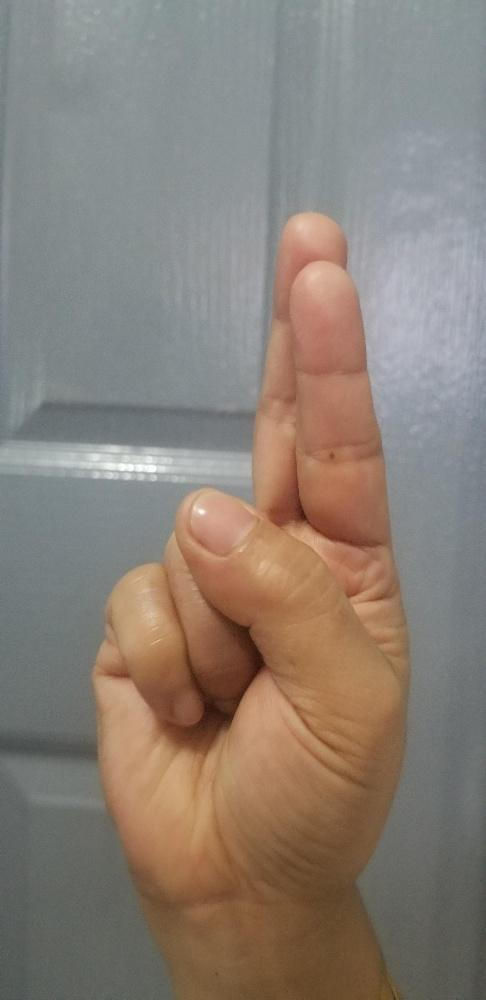r: (87, 203, 412, 900)
